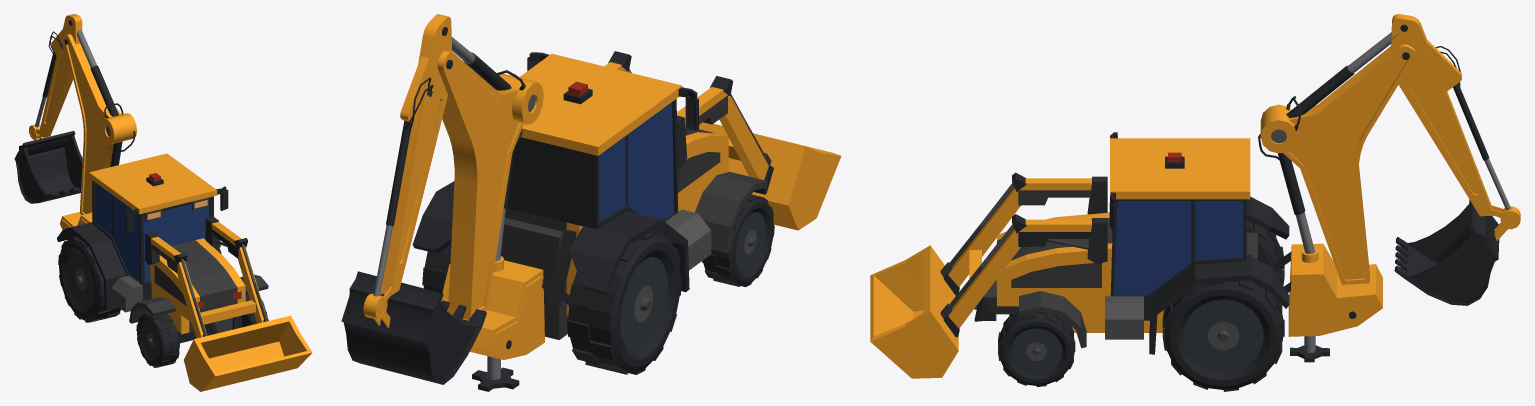
Rendered from TractorDigger_4.fbx.
3 views of the same model, side by side, from view 1: azimuth 30°, elevation 25°; view 2: azimuth 150°, elevation 25°; view 3: azimuth 270°, elevation 25° (orthographic). The views are drawn at different scales.
Visible parts, largest first — view 1: TractorDigger_4, Digger_4, TractorDiggerHead_4, TractorDiggerHeadTile_4, TractorDiggerBackWheels_4, TractorDiggerFrontWheels_4; view 2: TractorDigger_4, TractorDiggerHead_4, TractorDiggerBackWheels_4, TractorDiggerHeadTile_4, Digger_4, TractorDiggerFrontWheels_4; view 3: TractorDigger_4, TractorDiggerHead_4, Digger_4, TractorDiggerBackWheels_4, TractorDiggerHeadTile_4, TractorDiggerFrontWheels_4.
Part boxes in pixels (x1=…): TractorDigger_4: x1=57, y1=153, x2=268, y2=343; Digger_4: x1=145, y1=216, x2=312, y2=391; TractorDiggerHead_4: x1=29, y1=14, x2=136, y2=240; TractorDiggerHeadTile_4: x1=14, y1=131, x2=82, y2=203; TractorDiggerBackWheels_4: x1=58, y1=236, x2=121, y2=322; TractorDiggerFrontWheels_4: x1=136, y1=294, x2=267, y2=367; TractorDigger_4: x1=412, y1=52, x2=767, y2=339; TractorDiggerHead_4: x1=363, y1=14, x2=544, y2=391; TractorDiggerBackWheels_4: x1=422, y1=231, x2=681, y2=374; TractorDiggerHeadTile_4: x1=341, y1=271, x2=486, y2=384; Digger_4: x1=604, y1=51, x2=841, y2=230; TractorDiggerFrontWheels_4: x1=702, y1=194, x2=774, y2=286; TractorDigger_4: x1=974, y1=132, x2=1291, y2=354; TractorDiggerHead_4: x1=1258, y1=14, x2=1520, y2=362; Digger_4: x1=870, y1=172, x2=1107, y2=378; TractorDiggerBackWheels_4: x1=1162, y1=221, x2=1284, y2=391; TractorDiggerHeadTile_4: x1=1394, y1=199, x2=1499, y2=305; TractorDiggerFrontWheels_4: x1=998, y1=310, x2=1075, y2=386.
Bounding box in the file's own units: 224 × 441 × 766.
